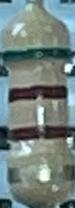Brown: (8, 83, 69, 103), (6, 125, 71, 143)
Green: (0, 45, 70, 67)
Side-Silver: (5, 163, 75, 184)
